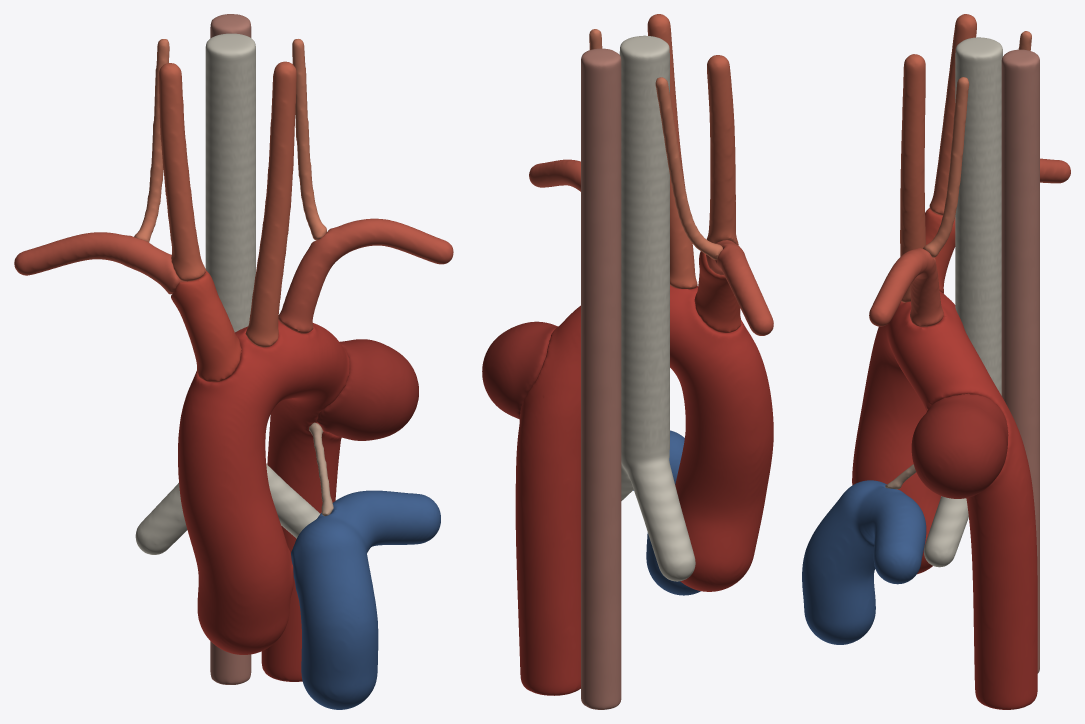
Rendered from aorta_aneurysm.glb.
The picture shows the model from 3 angles, left to right: view 1: azimuth 30°, elevation 25°; view 2: azimuth 150°, elevation 25°; view 3: azimuth 270°, elevation 25°; orthographic projection. The views are drawn at different scales.
Visible parts, largest first — view 1: aorta, pulmonary_trunk, trachea, left_common_carotid, aneurysm_sac, left_subclavian, right_common_carotid, right_subclavian, brachiocephalic_trunk, left_vertebral, oesophagus, right_vertebral (+1 smaller); view 2: aorta, oesophagus, trachea, right_common_carotid, aneurysm_sac, left_common_carotid, right_subclavian, right_vertebral, brachiocephalic_trunk, pulmonary_trunk, left_subclavian; view 3: aorta, trachea, oesophagus, pulmonary_trunk, aneurysm_sac, left_common_carotid, left_subclavian, right_common_carotid, left_vertebral, brachiocephalic_trunk, right_subclavian.
Part boxes in pixels (x1,y1,x2,y2): aorta: (178,320,349,681); pulmonary_trunk: (291,490,440,709); trachea: (135,33,320,554); left_common_carotid: (245,61,296,347); aneurysm_sac: (317,339,418,440); left_subclavian: (278,218,453,333); right_common_carotid: (158,63,206,281); right_subclavian: (14,232,186,294); brachiocephalic_trunk: (171,271,241,382); left_vertebral: (292,39,326,240); oesophagus: (210,14,251,684); right_vertebral: (134,39,169,242); aorta: (515,285,773,695); oesophagus: (581,48,621,709); trachea: (619,35,695,581); right_common_carotid: (706,55,738,245); aneurysm_sac: (482,321,557,419); left_common_carotid: (647,14,697,289); right_subclavian: (706,240,773,335); right_vertebral: (655,77,722,259); brachiocephalic_trunk: (694,245,741,332); pulmonary_trunk: (633,430,700,595); left_subclavian: (529,159,580,191); aorta: (852,291,1037,709); trachea: (924,37,1002,567); oesophagus: (1001,49,1039,673); pulmonary_trunk: (802,480,926,644); aneurysm_sac: (911,393,1008,498); left_common_carotid: (900,54,925,302); left_subclavian: (869,248,943,326); right_common_carotid: (929,14,976,215); left_vertebral: (923,77,969,257); brachiocephalic_trunk: (925,208,955,293); right_subclavian: (1040,158,1070,183).
Bounding box in the file's own units: 12.37 × 22.78 × 8.97.
